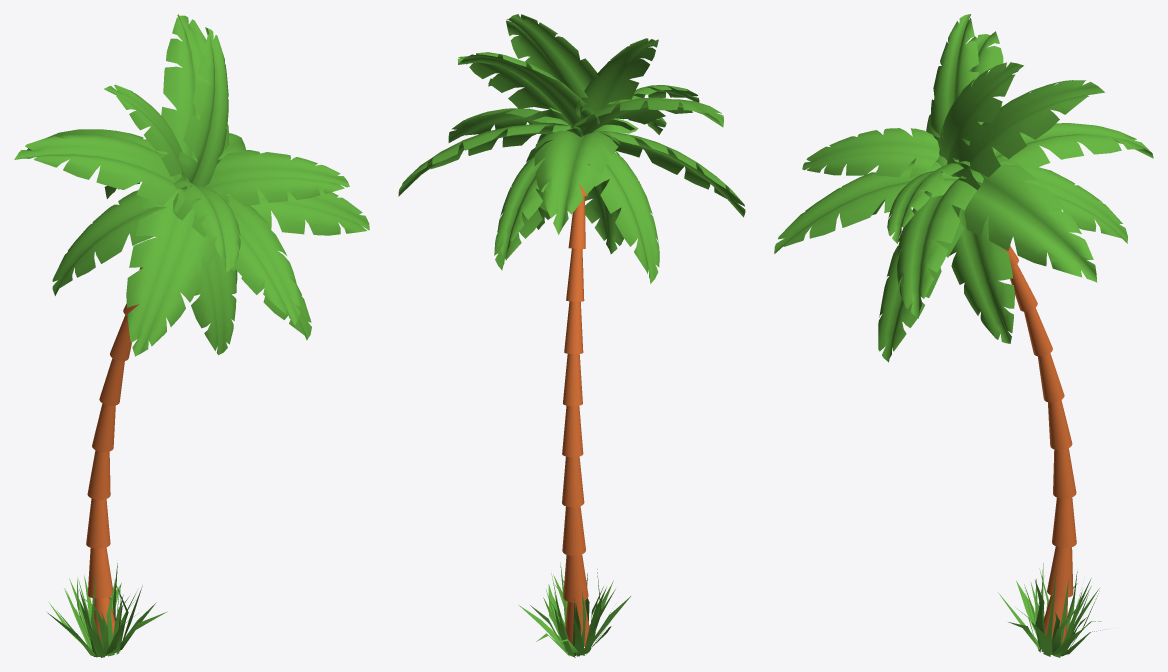
Rendered from PalmTree2v2.fbx.
The picture shows the model from 3 angles, left to right: view 1: azimuth 30°, elevation 25°; view 2: azimuth 150°, elevation 25°; view 3: azimuth 270°, elevation 25°; orthographic projection. The views are drawn at different scales.
Visible parts, largest first — view 1: PalmTree006; view 2: PalmTree006; view 3: PalmTree006.
Part boxes in pixels (x1,y1,x2,y2): PalmTree006: (14, 14, 369, 657); PalmTree006: (398, 14, 745, 657); PalmTree006: (774, 14, 1153, 657).
Size of the model in its own units: 423 by 787 by 427.
